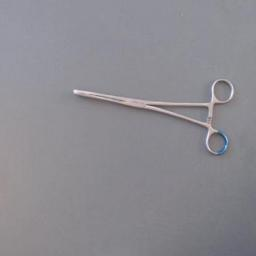Sponge Forceps: (71, 72, 237, 160)
